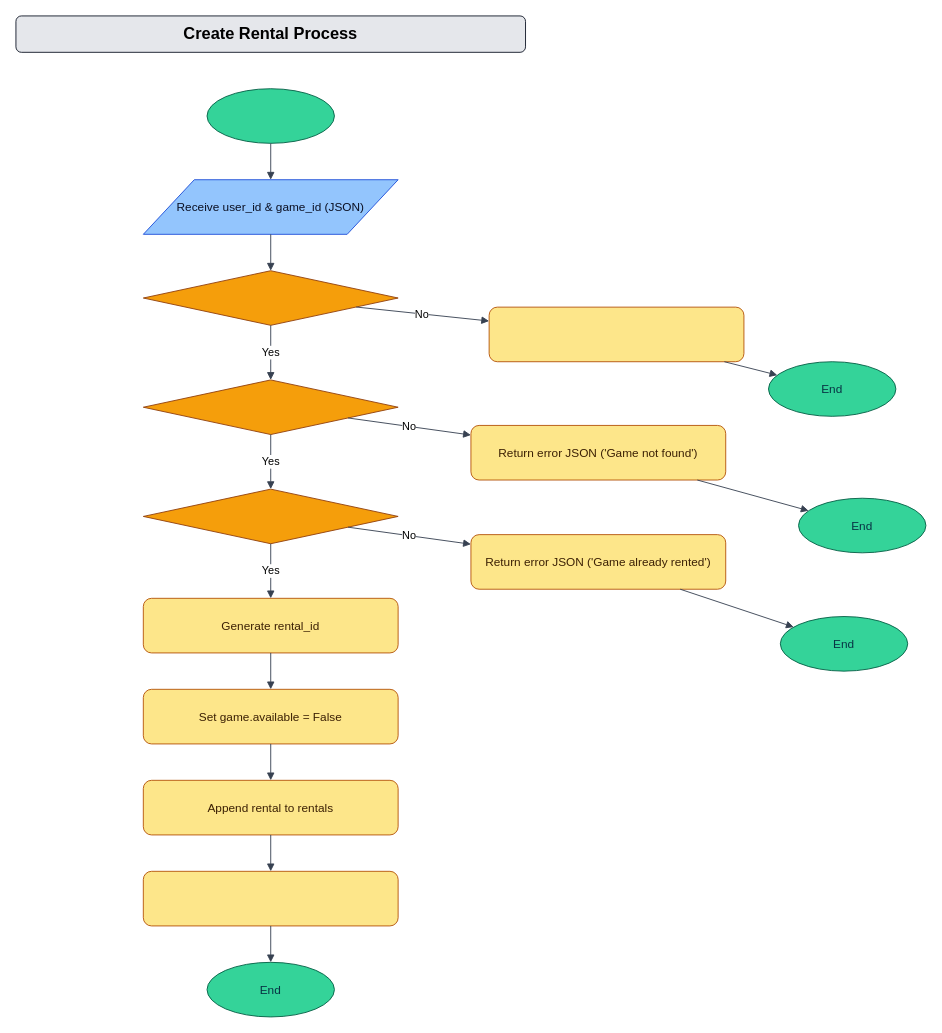
The diagram is 942 pixels wide and 1033 high, and some of its shapes have lost their labels. The shapes that lost their labels are listed below. From the top down, each one's centre as x and y in pixels, then its label:
At [270,115]: "Start".
At [270,297]: "User exists?".
At [616,334]: "Return error JSON ('User not found')".
At [270,407]: "Game exists?".
At [270,516]: "Game available?".
At [270,898]: "Return success JSON".
